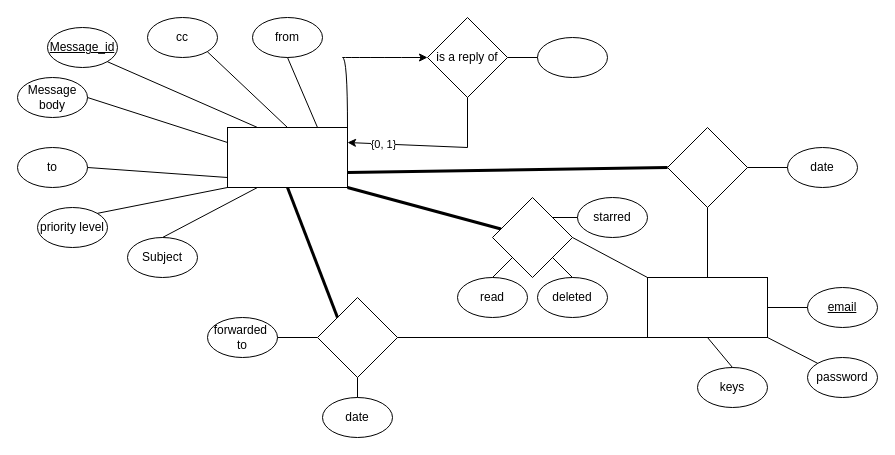
Some shapes in this 895 by 455 pixel diagram are drawn without their labels. Here are the shapes that lost their labels. From the top down, the box of each, then its label:
(536, 36, 608, 78): replied
(226, 126, 348, 188): Message
(666, 126, 748, 208): is created by
(492, 196, 572, 278): is received by
(646, 276, 768, 338): Users
(316, 296, 398, 378): forwards
